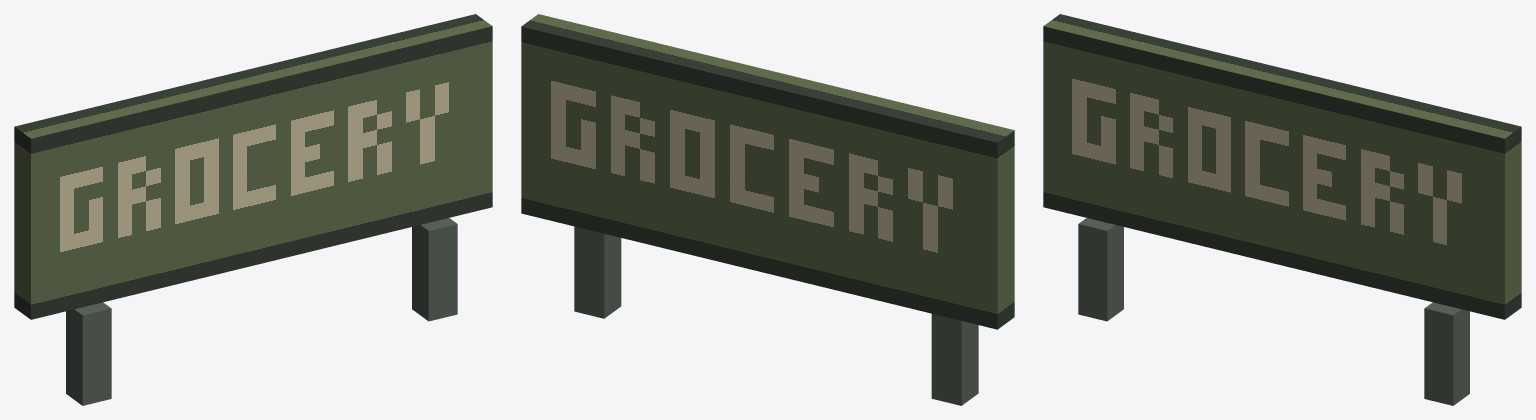
Rendered from sign_grocery.gltf.
The picture shows the model from 3 angles, left to right: view 1: azimuth 30°, elevation 25°; view 2: azimuth 150°, elevation 25°; view 3: azimuth 330°, elevation 25°; orthographic projection. The views are drawn at different scales.
Parts seen in each view (by area): view 1: signboard, support (×2); view 2: signboard, support (×2); view 3: signboard, support (×2).
Boxes of the visible parts, left/top/right/bottom form: signboard: left=14, top=14, right=492, bottom=319; support (×2): left=66, top=218, right=457, bottom=405; signboard: left=521, top=14, right=1014, bottom=329; support (×2): left=574, top=226, right=978, bottom=405; signboard: left=1043, top=14, right=1521, bottom=319; support (×2): left=1078, top=218, right=1469, bottom=405.
Size of the model in its own units: 2 by 1.12 by 0.1875.
Materials: 2 (2 with a texture image).
